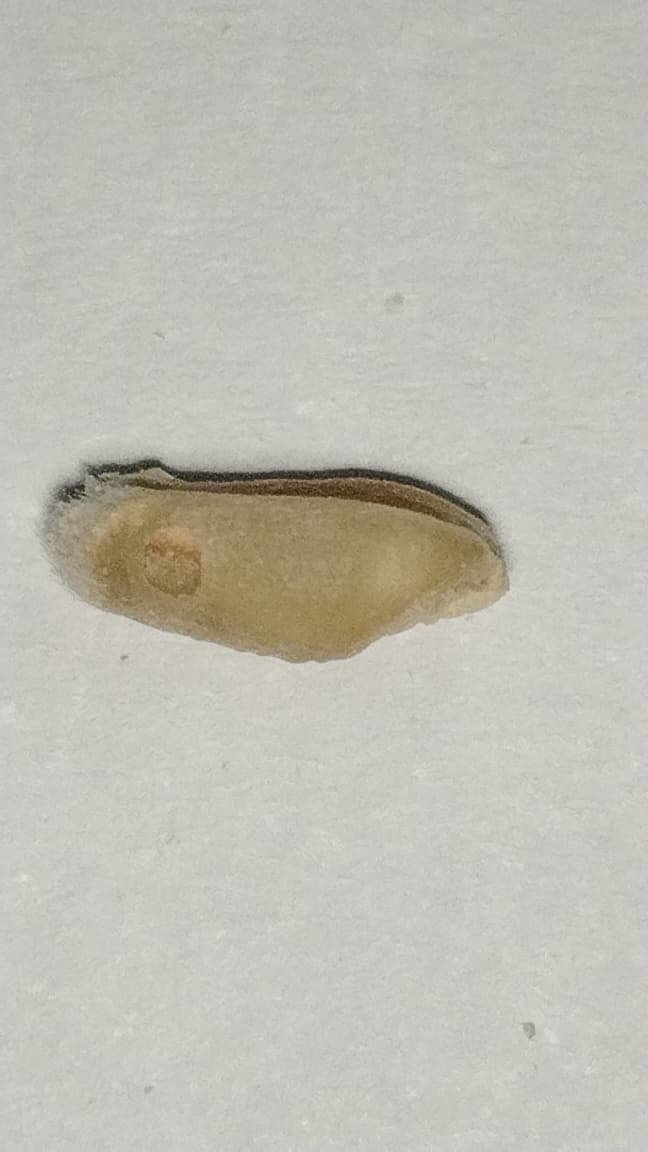damage: (43, 458, 507, 662)
insectdamage: (129, 508, 220, 626)
